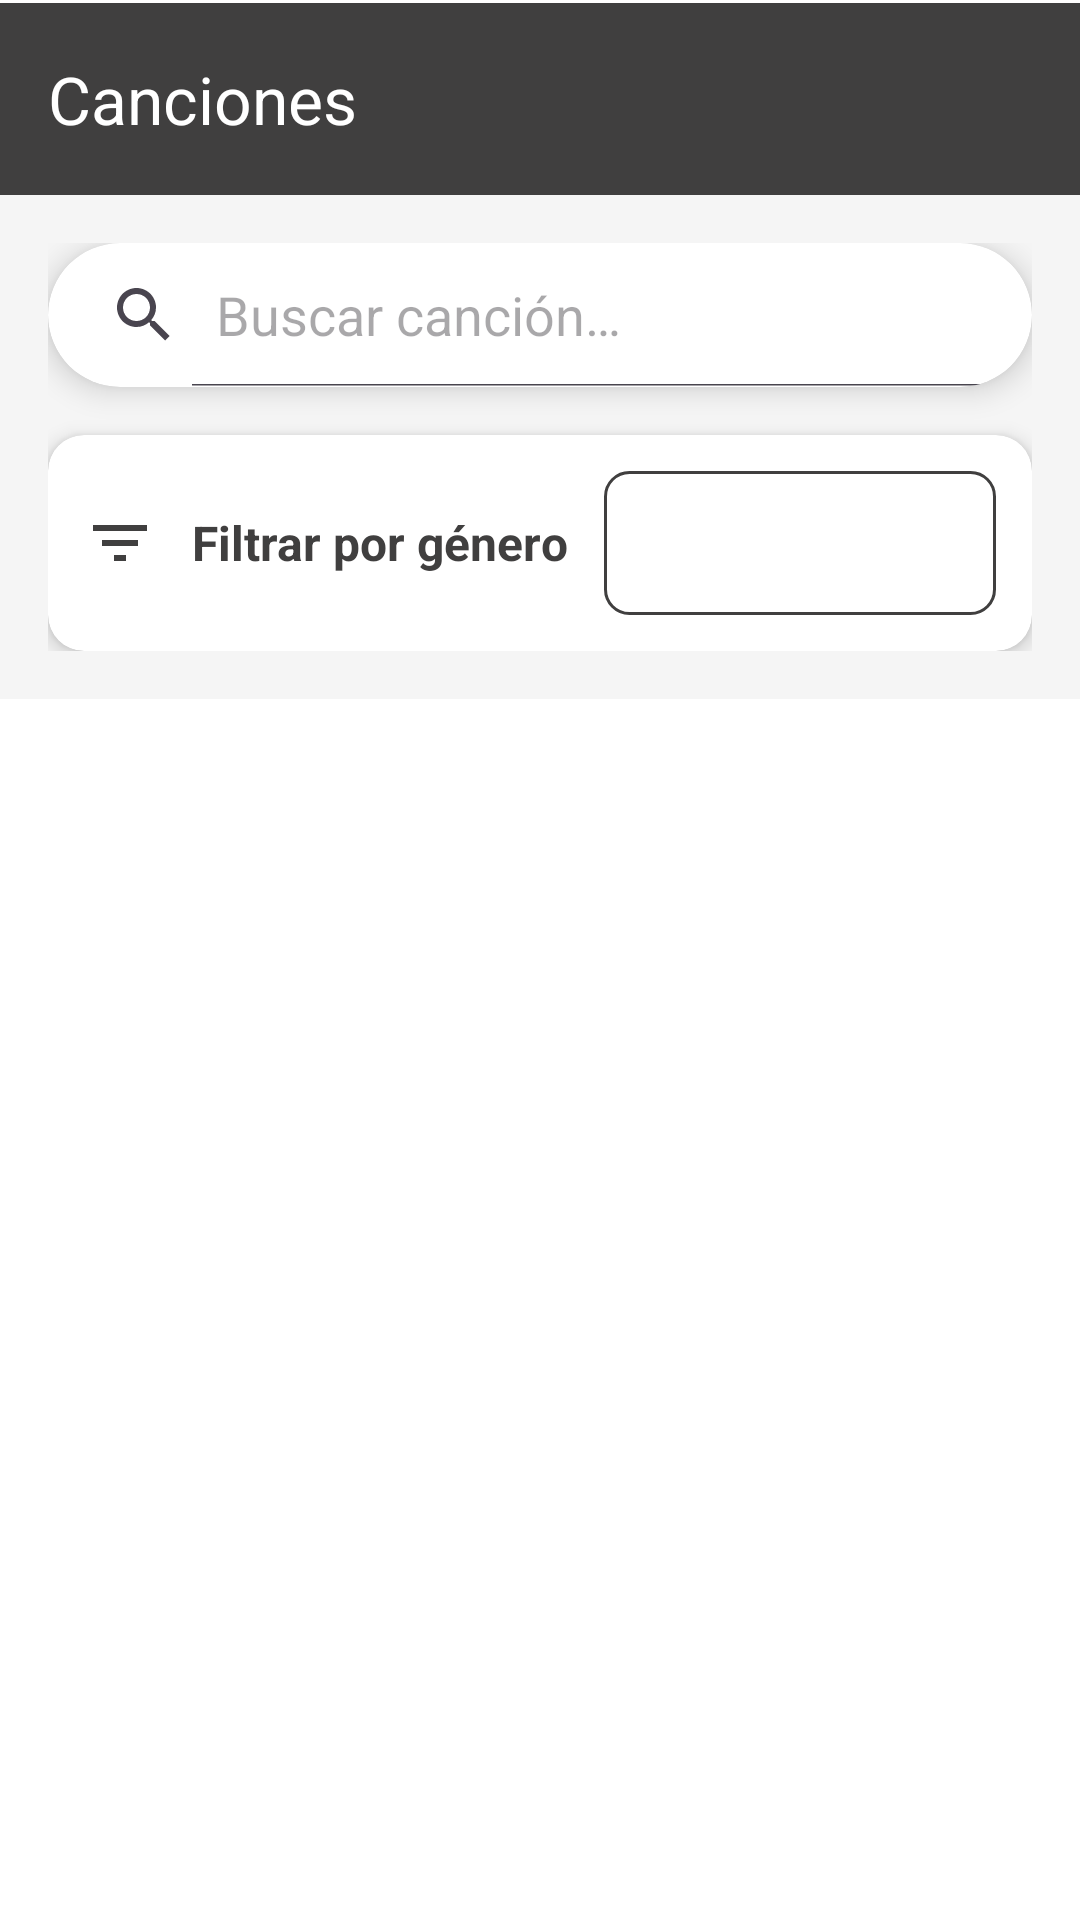

Named icons in this screenshot (1080×1920) and their centers, [x,y]:
filter: [120,543]
